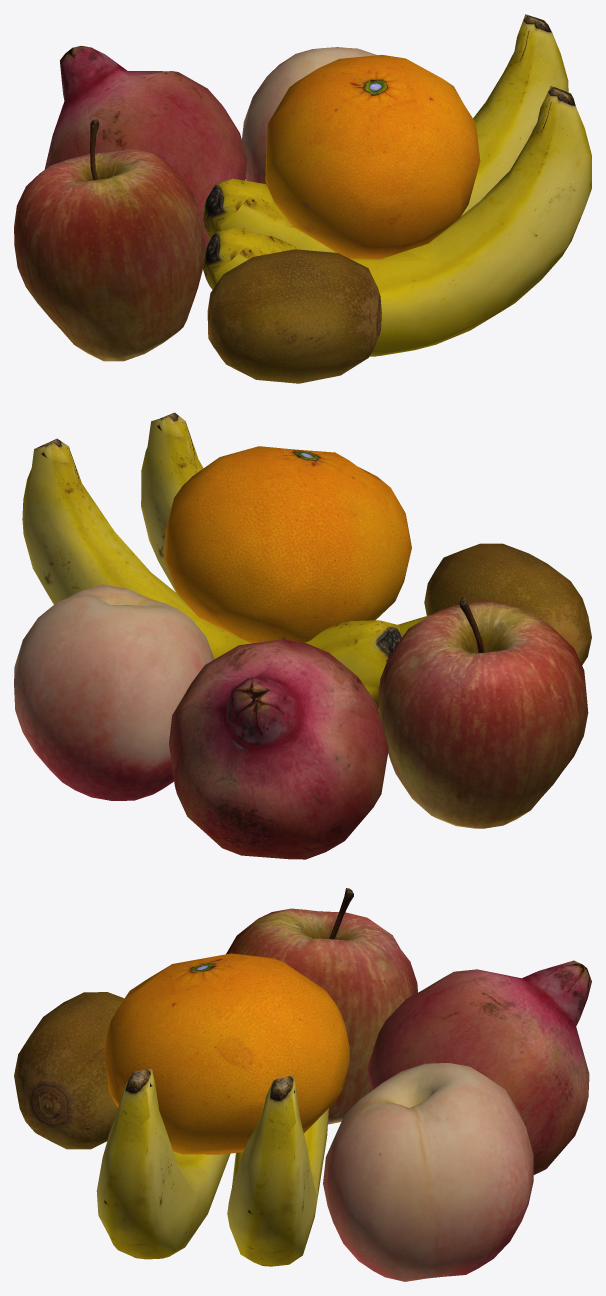
Rendered from fruit_bowl.fbx.
3 views of the same model, one above another, from view 1: azimuth 30°, elevation 25°; view 2: azimuth 150°, elevation 25°; view 3: azimuth 270°, elevation 25° (orthographic). The views are drawn at different scales.
Parts seen in each view (by area): view 1: Banana, Mandarin Orange, Apple, Kiwi, Pomegranate, Peach; view 2: Mandarin Orange, Pomegranate, Apple, Peach, Banana, Kiwi; view 3: Peach, Mandarin Orange, Banana, Pomegranate, Apple, Kiwi.
Part boxes in pixels (<box>): Banana: <box>202,14,591,356</box>; Mandarin Orange: <box>265,55,480,258</box>; Apple: <box>14,119,205,361</box>; Kiwi: <box>207,249,381,383</box>; Pomegranate: <box>44,46,247,253</box>; Peach: <box>242,47,377,183</box>; Mandarin Orange: <box>164,446,411,643</box>; Pomegranate: <box>169,639,388,859</box>; Apple: <box>378,596,588,828</box>; Peach: <box>14,584,214,800</box>; Banana: <box>22,412,429,713</box>; Kiwi: <box>424,543,591,665</box>; Peach: <box>323,1063,533,1281</box>; Mandarin Orange: <box>104,953,349,1154</box>; Banana: <box>96,1068,328,1266</box>; Pomegranate: <box>367,960,591,1174</box>; Apple: <box>226,888,417,1124</box>; Kiwi: <box>14,992,124,1149</box>.
Bounding box in the file's own units: 0.215 × 0.1911 × 0.1013.
Materials: 6 (6 with a texture image).
